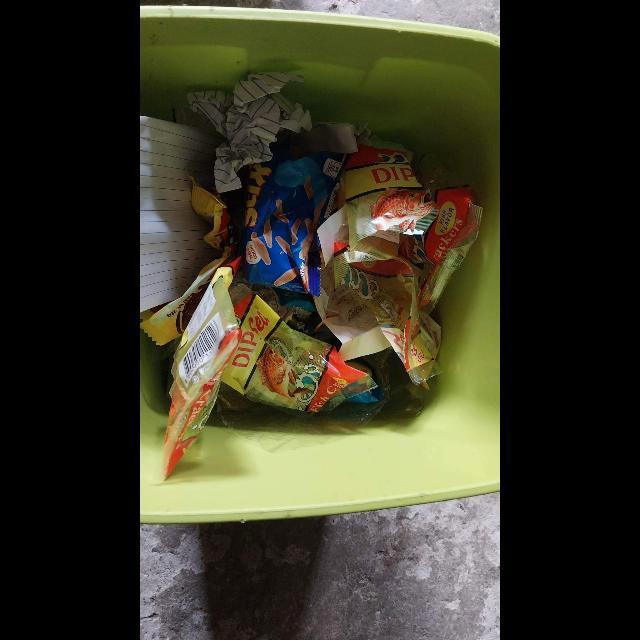food_wrapper: (221, 284, 378, 413), (327, 225, 442, 386), (163, 267, 242, 481), (242, 152, 352, 298), (398, 154, 483, 315), (345, 144, 438, 262), (140, 258, 225, 346), (187, 175, 230, 251)
paper: (187, 72, 312, 194), (140, 116, 216, 313)
